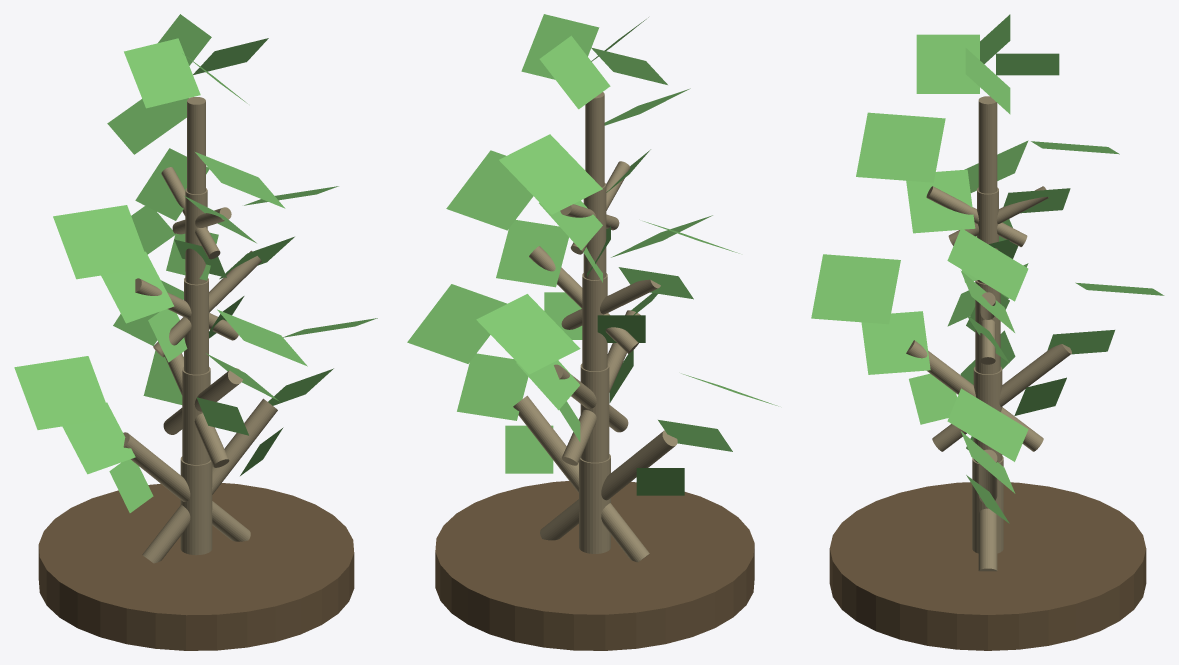
The model's file is plant_stage_3_mid_vegetative.glb.
3 renders of one model, left to right at view 1: azimuth 30°, elevation 25°; view 2: azimuth 150°, elevation 25°; view 3: azimuth 270°, elevation 25°, orthographic.
Visible parts, largest first — view 1: Cylinder.013, Plane.015, Plane.003, Plane.026, Cylinder.001, Cylinder, Plane.004, Plane.018, Cylinder.002, Plane.016, Cylinder.006, Cylinder.003 (+23 smaller); view 2: Cylinder.013, Plane.006, Plane.018, Plane, Plane.012, Plane.001, Plane.013, Cylinder.001, Plane.025, Cylinder, Cylinder.002, Plane.024 (+19 smaller); view 3: Cylinder.013, Plane.009, Plane.021, Plane.027, Plane.010, Plane.022, Plane.012, Plane, Cylinder.004, Cylinder.012, Plane.011, Cylinder.005 (+22 smaller).
Part boxes in pixels (x1,y1,x2,y2): Cylinder.013: (38, 483, 354, 650); Plane.015: (53, 205, 150, 279); Plane.003: (14, 356, 111, 429); Plane.026: (124, 38, 200, 108); Cylinder.001: (142, 398, 277, 563); Cylinder: (180, 456, 212, 555); Plane.004: (62, 402, 135, 474); Plane.018: (107, 98, 188, 154); Cylinder.002: (123, 432, 250, 541); Plane.016: (101, 251, 174, 323); Cylinder.006: (184, 278, 208, 374); Cylinder.003: (182, 367, 210, 464); Cylinder.013: (435, 481, 754, 650); Plane.006: (476, 294, 580, 374); Plane.018: (499, 134, 602, 214); Plane: (407, 284, 506, 363); Plane.012: (446, 150, 533, 230); Plane.001: (457, 353, 528, 420); Plane.013: (496, 220, 568, 287); Cylinder.001: (513, 395, 649, 562); Plane.025: (539, 35, 610, 109); Cylinder: (579, 454, 610, 553); Cylinder.002: (540, 430, 677, 540); Plane.024: (521, 14, 599, 79); Cylinder.013: (829, 482, 1146, 650); Plane.009: (811, 254, 900, 324); Plane.021: (856, 112, 945, 182); Plane.027: (916, 34, 979, 93); Plane.010: (861, 311, 930, 374); Plane.022: (906, 169, 975, 233); Plane.012: (947, 228, 1028, 301); Plane: (947, 388, 1028, 461); Cylinder.004: (932, 344, 1071, 451); Cylinder.012: (978, 96, 997, 193); Plane.011: (909, 373, 957, 424); Cylinder.005: (906, 340, 1043, 451).
Bounding box in the file's own units: 0.2014 × 0.3013 × 0.1788.
